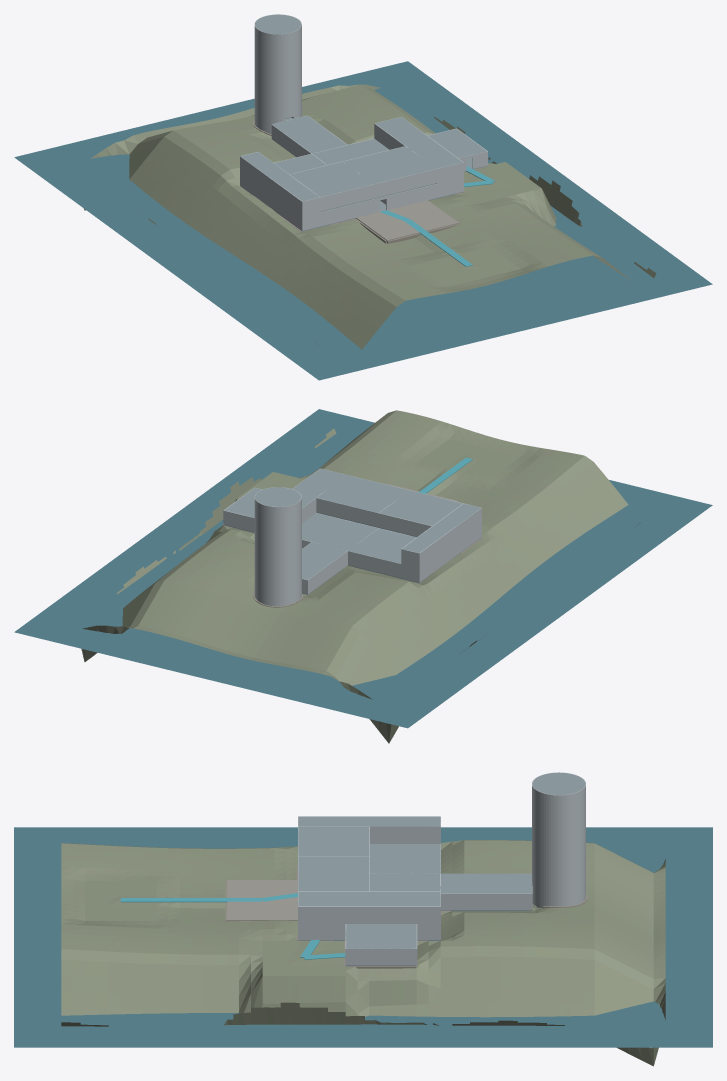
Rendered from occupied-terrain.glb.
3 renders of one model, top to bottom at view 1: azimuth 30°, elevation 25°; view 2: azimuth 150°, elevation 25°; view 3: azimuth 270°, elevation 25°, orthographic. The views are drawn at different scales.
Visible parts, largest first — view 1: WATER PLACEHOLDER / layers and transparency pending, Saved editor occupied-room terrain WLD-14, Ceiling cap study, Ceiling cap bed, Ceiling cap upperhall, Ceiling cap passage, Ceiling cap service-upper, Wall service-stair W, Ceiling cap store, Wall service-upper W, Wall study S, Ceiling cap generator (+10 smaller); view 2: Saved editor occupied-room terrain WLD-14, WATER PLACEHOLDER / layers and transparency pending, Ceiling cap study, Ceiling cap store, Ceiling cap bed, Ceiling cap workroom, Ceiling cap service-upper, Wall service-stair W, Ceiling cap passage, Wall service-upper W, Wall study N, Ceiling cap upperhall (+10 smaller); view 3: Saved editor occupied-room terrain WLD-14, WATER PLACEHOLDER / layers and transparency pending, Ceiling cap study, Wall upperhall E, Ceiling cap bed, Ceiling cap upperhall, Ceiling cap workroom, Ceiling cap passage, Ceiling cap generator, Ceiling cap service-upper, Wall passage E, Ceiling cap store (+14 smaller).
Boxes of the visible parts, x1,y1,x2,y2 form: WATER PLACEHOLDER / layers and transparency pending: (14,61,712,380); Saved editor occupied-room terrain WLD-14: (84,84,656,349); Ceiling cap study: (343,146,436,183); Ceiling cap bed: (290,161,373,196); Ceiling cap upperhall: (375,117,462,168); Ceiling cap passage: (272,115,346,153); Ceiling cap service-upper: (241,152,319,201); Wall service-stair W: (240,170,302,230); Ceiling cap store: (313,138,389,164); Wall service-upper W: (240,156,302,215); Wall study S: (374,169,436,198); Ceiling cap generator: (428,129,486,158); Saved editor occupied-room terrain WLD-14: (81,410,640,743); WATER PLACEHOLDER / layers and transparency pending: (14,409,712,728); Ceiling cap study: (317,475,409,512); Ceiling cap store: (302,513,377,550); Ceiling cap bed: (379,490,462,525); Ceiling cap workroom: (348,528,416,563); Ceiling cap service-upper: (402,504,480,552); Wall service-stair W: (419,522,481,582); Ceiling cap passage: (302,542,346,579); Wall service-upper W: (419,508,481,567); Wall study N: (316,498,378,527); Ceiling cap upperhall: (292,468,346,507); Saved editor occupied-room terrain WLD-14: (61,840,665,1066); WATER PLACEHOLDER / layers and transparency pending: (14,827,712,1047); Ceiling cap study: (298,856,369,891); Wall upperhall E: (298,906,440,922); Ceiling cap bed: (298,826,369,856); Ceiling cap upperhall: (298,892,440,906); Ceiling cap workroom: (370,844,440,873); Ceiling cap passage: (440,873,532,893); Ceiling cap generator: (345,924,416,948); Ceiling cap service-upper: (298,816,440,826); Wall passage E: (441,893,532,909); Ceiling cap store: (370,873,440,891).
Size of the model in its own units: 88 by 38.28 by 118.
